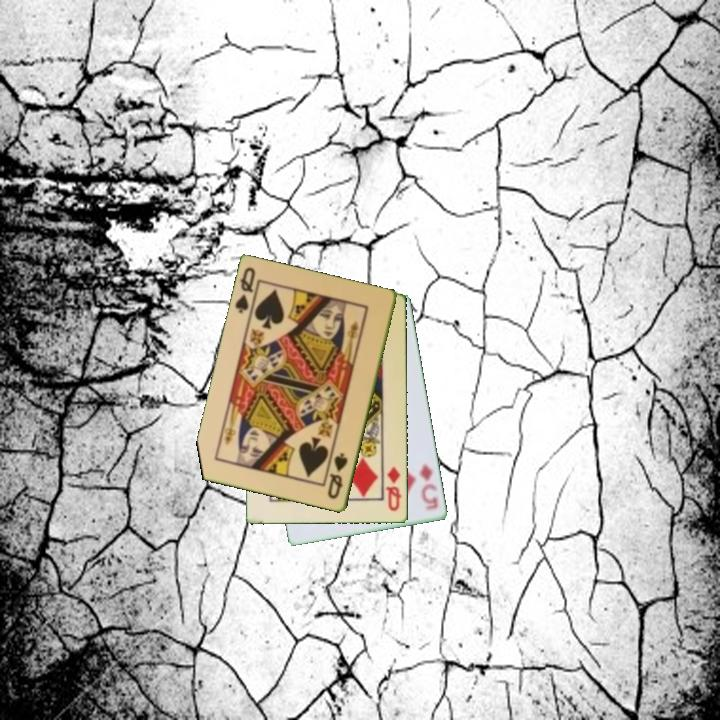5d: (416, 461, 441, 513)
Qd: (382, 463, 405, 514)
Qs: (232, 264, 262, 320), (324, 450, 351, 502)
